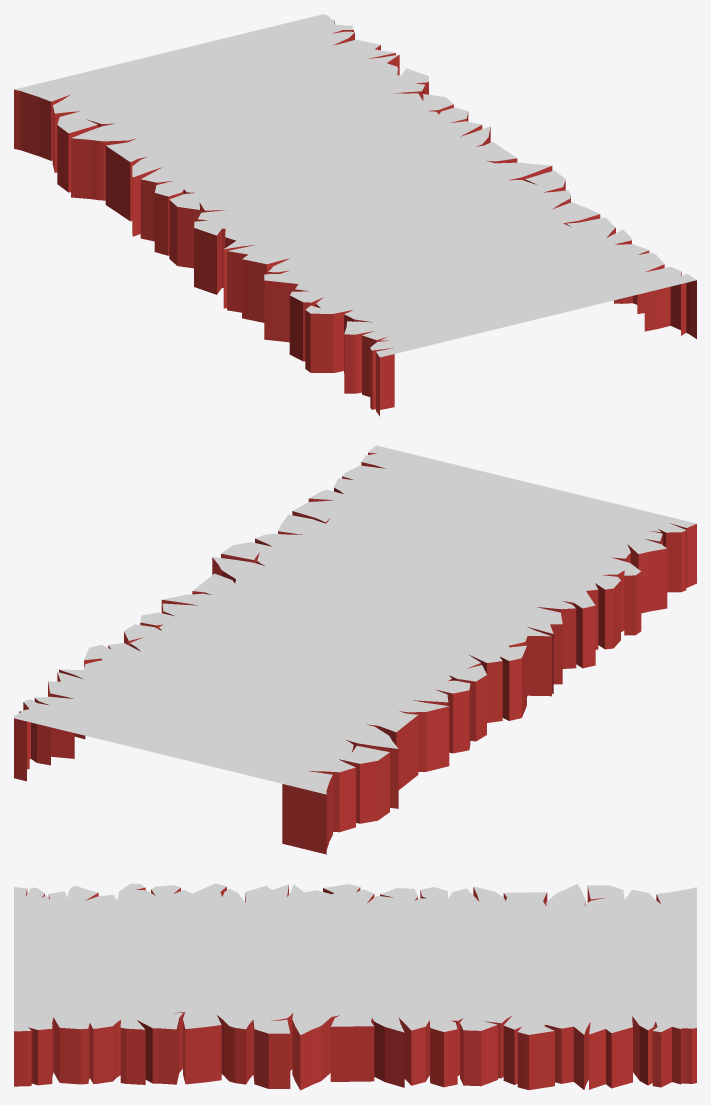
The model's file is newice.fbx.
3 renders of one model, top to bottom at view 1: azimuth 30°, elevation 25°; view 2: azimuth 150°, elevation 25°; view 3: azimuth 270°, elevation 25°, orthographic. The views are drawn at different scales.
Visible parts, largest first — view 1: Plane.001; view 2: Plane.001; view 3: Plane.001.
Part boxes in pixels (left/top/right/bottom): Plane.001: left=14, top=14, right=696, bottom=416; Plane.001: left=14, top=445, right=696, bottom=854; Plane.001: left=14, top=883, right=696, bottom=1090.
Size of the model in its own units: 2946 by 500 by 5600.
